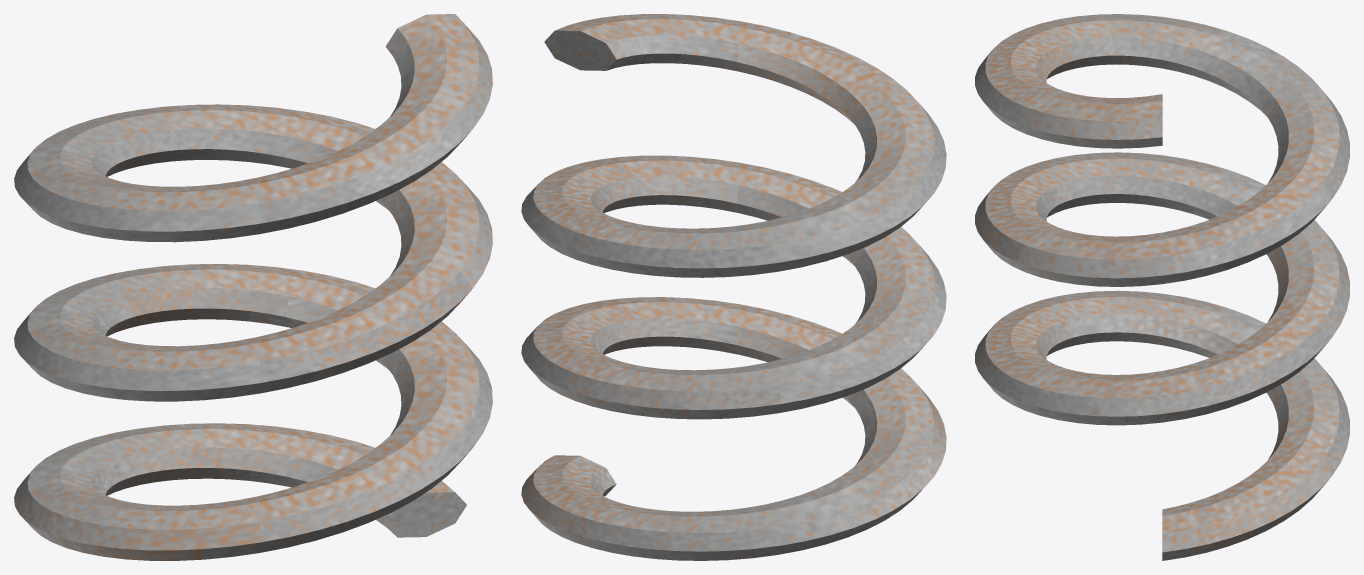
Rendered from mola.fbx.
3 renders of one model, left to right at view 1: azimuth 30°, elevation 25°; view 2: azimuth 150°, elevation 25°; view 3: azimuth 270°, elevation 25°, orthographic. The views are drawn at different scales.
Visible parts, largest first — view 1: pHelix1; view 2: pHelix1; view 3: pHelix1.
Part boxes in pixels (box(x1,y1,x2,y2)): pHelix1: box(14, 14, 492, 560); pHelix1: box(521, 14, 946, 560); pHelix1: box(975, 14, 1349, 560).
Size of the model in its own units: 0.7387 by 0.8627 by 0.6463.
